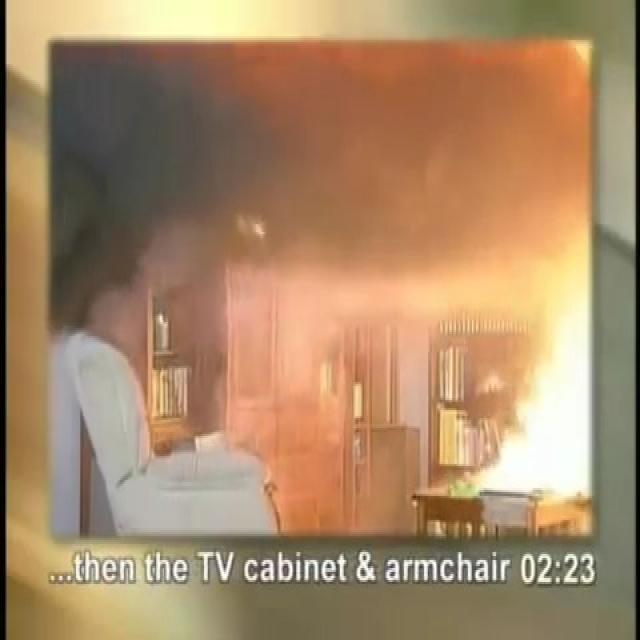Fire: (467, 314, 590, 496)
